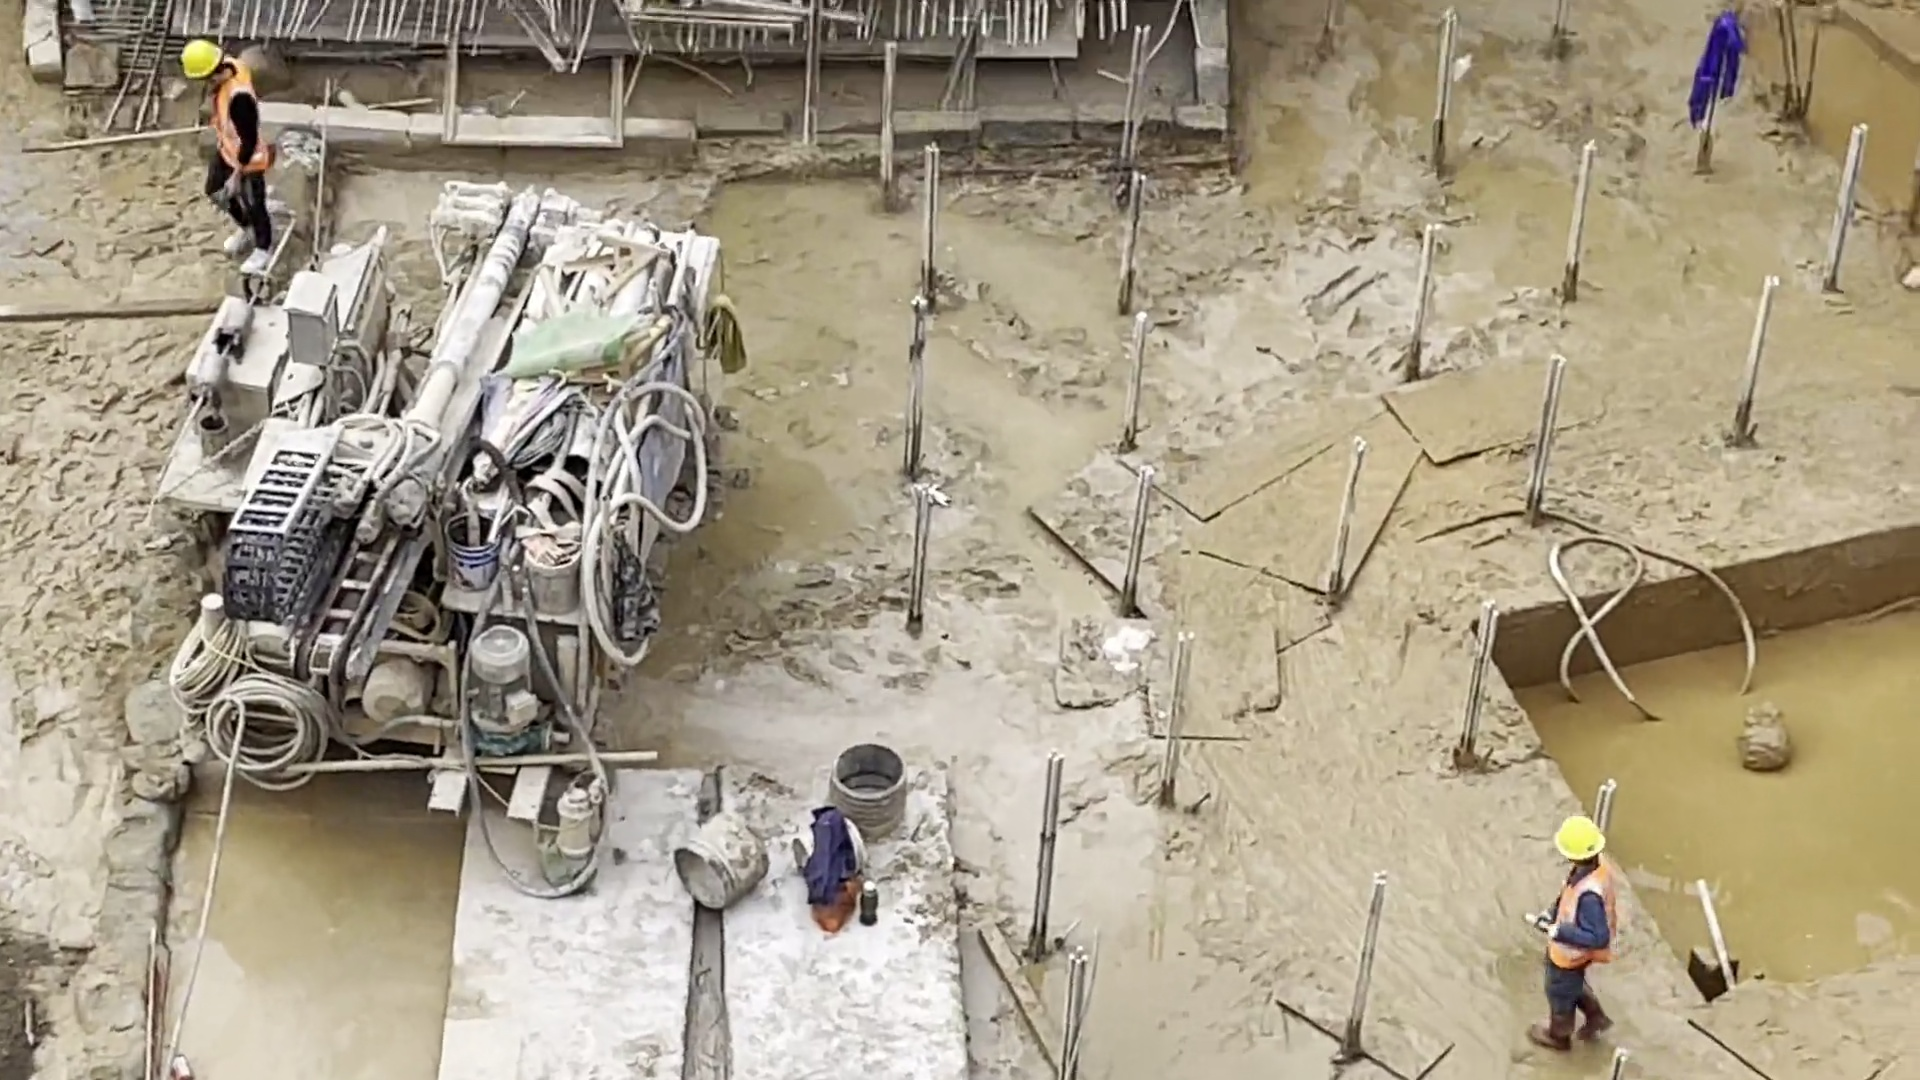helmet: (1554, 815, 1607, 863), (179, 38, 224, 81)
person: (1520, 808, 1620, 1057), (177, 36, 284, 256)
vest: (1545, 862, 1616, 973), (212, 61, 272, 174)
